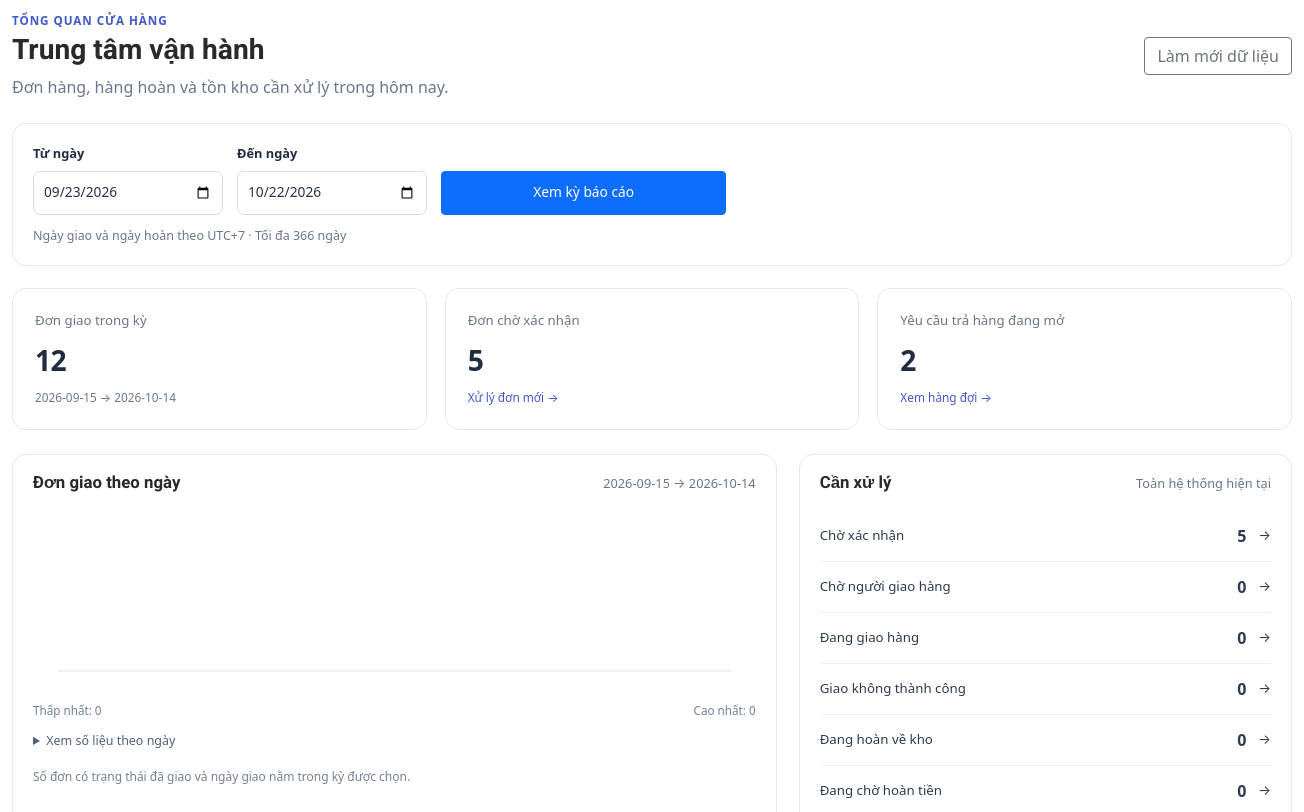
loading a new period keeps the visible report and prevents duplicate requests
The image size is (1304, 812).
Type "2026-10-14" into the date field labelled "Từ ngày" at coordinates (128, 192), box [33,170,223,214]
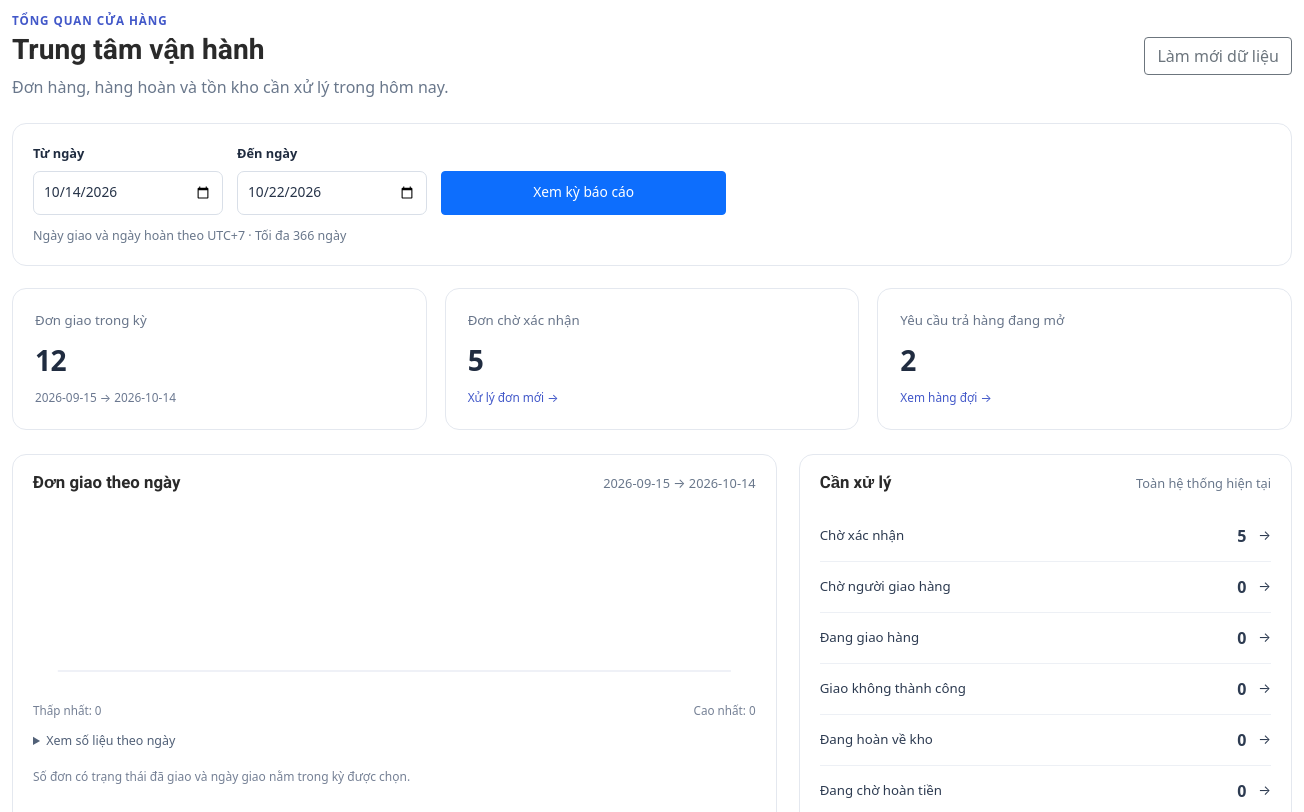
Type "2026-10-14" into the date field labelled "Đến ngày" at coordinates (332, 192), box [237,170,427,214]
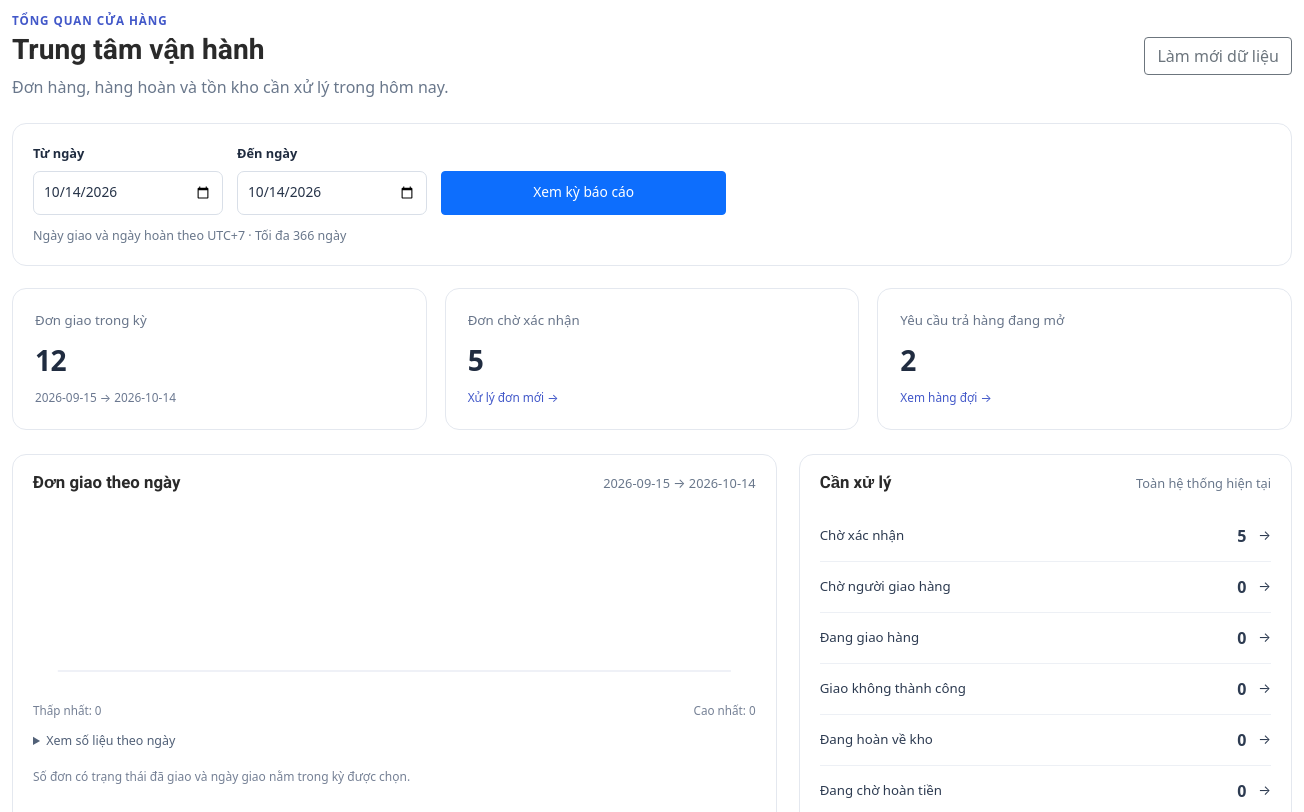
Submit the form named "Chọn kỳ báo cáo", box [12,123,1292,266]
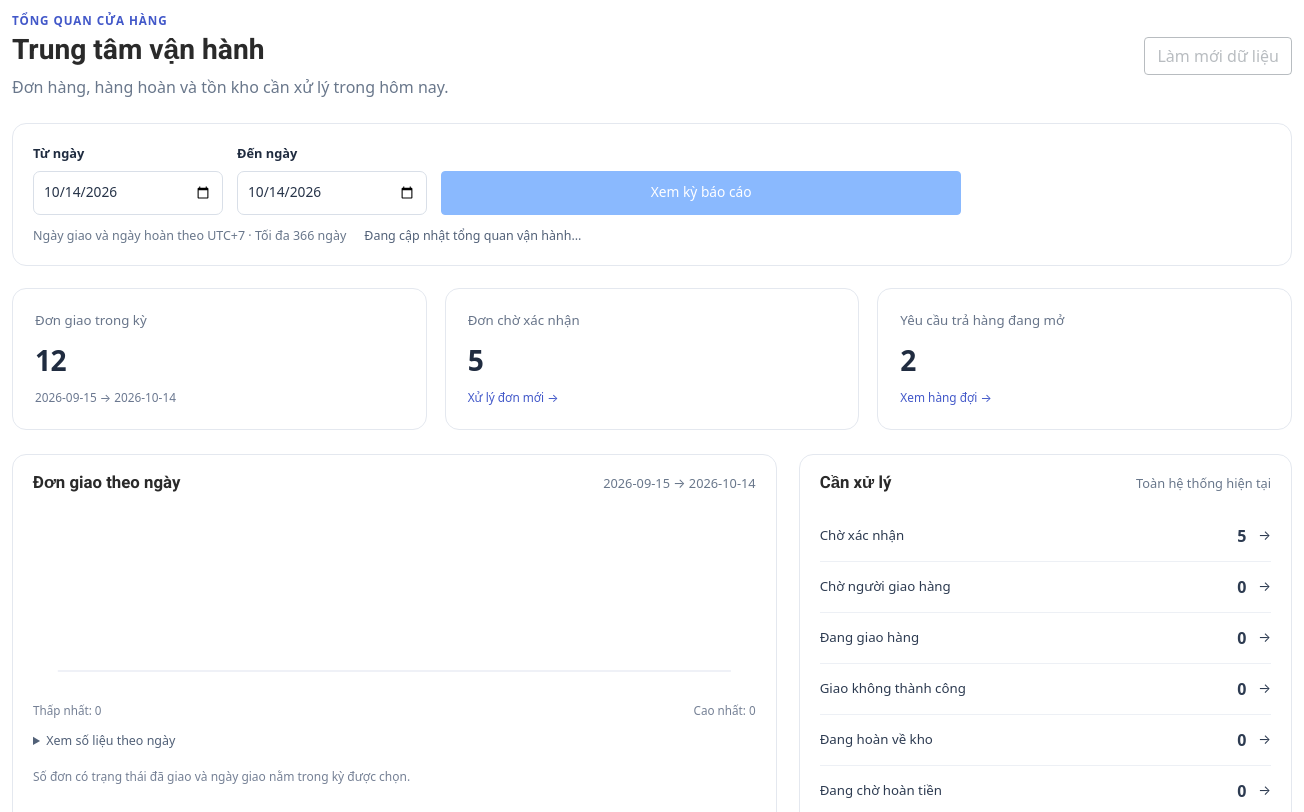
Expected: the button "Xem kỳ báo cáo" is disabled, [441,170,961,214]
Expected: the button "Làm mới dữ liệu" is disabled, [1144,37,1292,75]
Expected: the message reads "Đang cập nhật tổng quan vận hành…", [364,226,581,244]
Submit the form named "Chọn kỳ báo cáo", box [12,123,1292,266]
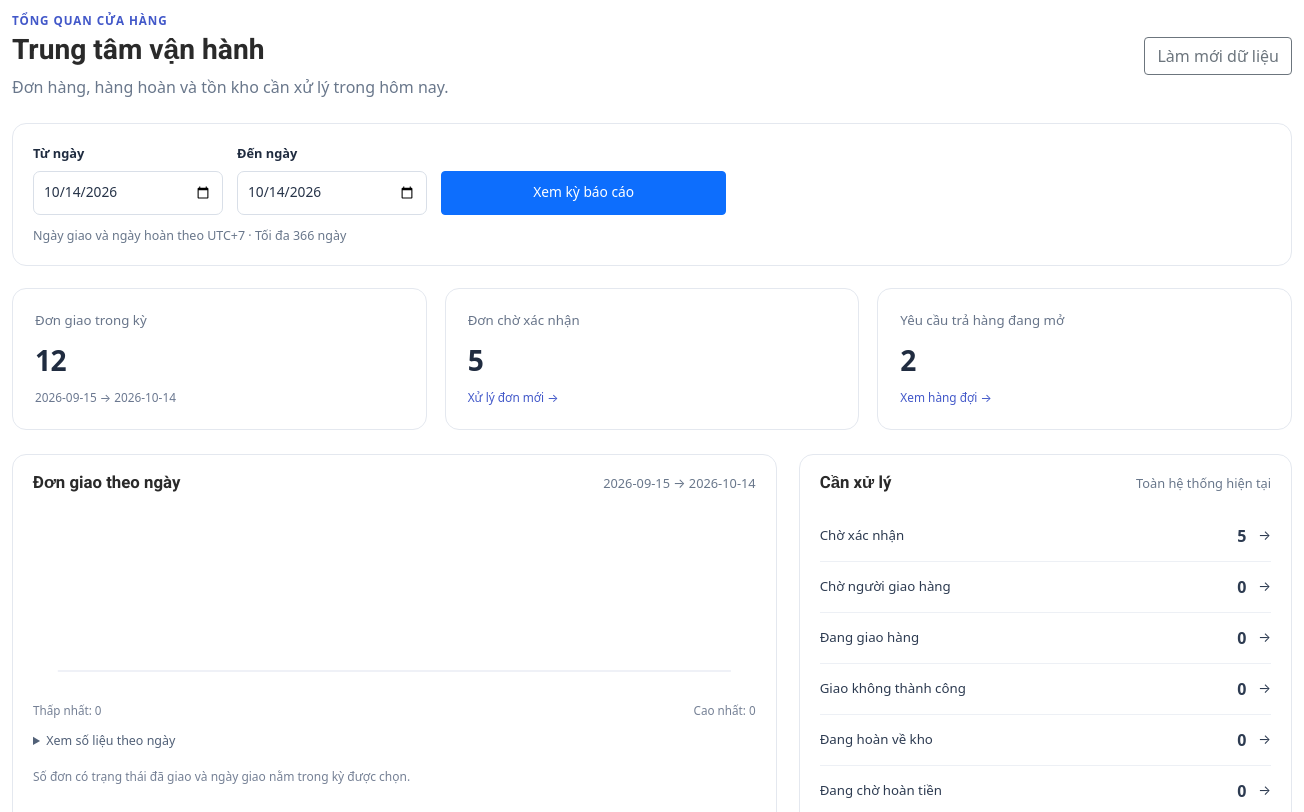
Expected: the button "Xem kỳ báo cáo" is enabled, [441,170,726,214]
